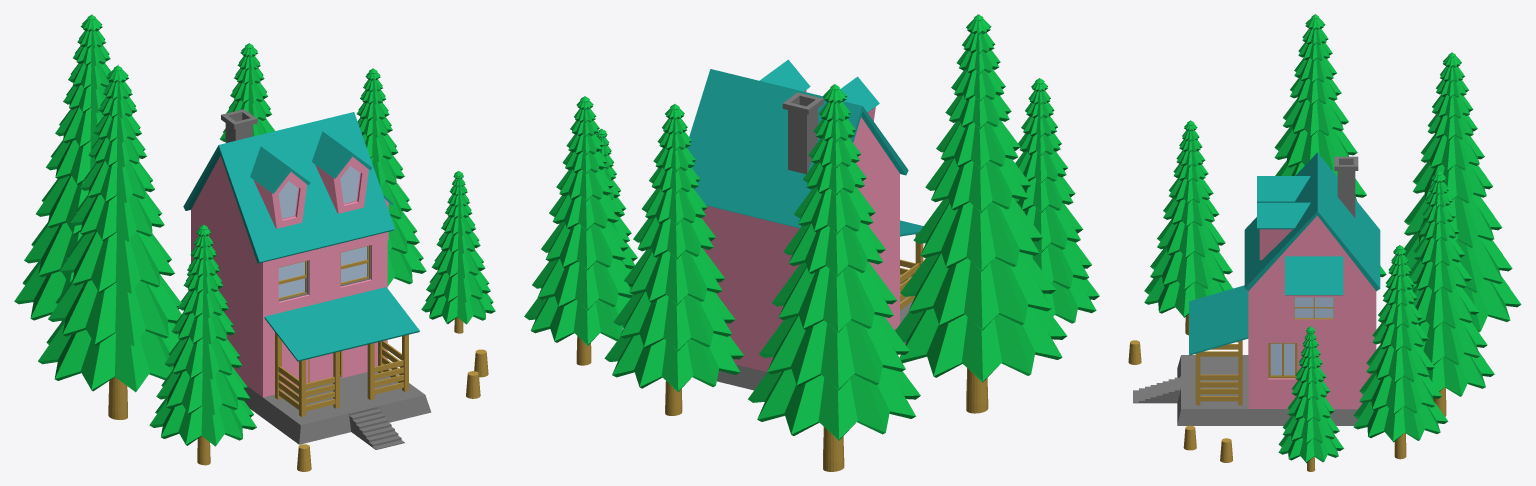
The model's file is house.glb.
3 views of the same model, side by side, from view 1: azimuth 30°, elevation 25°; view 2: azimuth 150°, elevation 25°; view 3: azimuth 270°, elevation 25° (orthographic). The views are drawn at different scales.
Parts seen in each view (by area): view 1: Plane, Plane.001, Plane.008, Circle.002, Circle.001, Plane.007, Circle.003, Circle.004, Circle.012, Circle.013, Circle.014, Circle.005 (+39 smaller); view 2: Plane, Plane.001, Circle.001, Circle.002, Circle.056, Circle.057, Circle.003, Circle.058, Circle.034, Circle.035, Circle.004, Circle.036 (+30 smaller); view 3: Plane, Plane.001, Plane.007, Plane.008, Circle.023, Cube.001, Circle.058, Circle.024, Circle.013, Circle.004, Circle.057, Circle.035 (+37 smaller).
Part boxes in pixels (x1=…): Plane: x1=191, y1=156, x2=387, y2=416; Plane.001: x1=183, y1=112, x2=394, y2=263; Plane.008: x1=264, y1=287, x2=419, y2=361; Circle.002: x1=48, y1=274, x2=181, y2=346; Circle.001: x1=38, y1=320, x2=179, y2=392; Plane.007: x1=261, y1=369, x2=431, y2=444; Circle.003: x1=60, y1=231, x2=174, y2=293; Circle.004: x1=70, y1=191, x2=164, y2=241; Circle.012: x1=149, y1=398, x2=256, y2=446; Circle.013: x1=156, y1=367, x2=250, y2=415; Circle.014: x1=164, y1=337, x2=242, y2=379; Circle.005: x1=80, y1=161, x2=154, y2=202; Plane: x1=702, y1=117, x2=906, y2=390; Plane.001: x1=687, y1=69, x2=908, y2=228; Circle.001: x1=895, y1=306, x2=1066, y2=382; Circle.002: x1=900, y1=252, x2=1055, y2=330; Circle.056: x1=748, y1=367, x2=920, y2=440; Circle.057: x1=759, y1=314, x2=909, y2=390; Circle.003: x1=913, y1=197, x2=1042, y2=271; Circle.058: x1=772, y1=261, x2=897, y2=333; Circle.034: x1=604, y1=333, x2=744, y2=391; Circle.035: x1=613, y1=290, x2=735, y2=351; Circle.004: x1=925, y1=157, x2=1030, y2=212; Circle.036: x1=624, y1=248, x2=724, y2=305; Plane: x1=1244, y1=215, x2=1376, y2=425; Plane.001: x1=1244, y1=152, x2=1380, y2=291; Plane.007: x1=1177, y1=355, x2=1248, y2=425; Plane.008: x1=1189, y1=285, x2=1248, y2=355; Circle.023: x1=1353, y1=401, x2=1448, y2=442; Cube.001: x1=1285, y1=256, x2=1343, y2=295; Circle.058: x1=1404, y1=194, x2=1502, y2=247; Circle.024: x1=1359, y1=372, x2=1441, y2=414; Circle.013: x1=1150, y1=248, x2=1232, y2=289; Circle.004: x1=1274, y1=126, x2=1357, y2=169; Circle.057: x1=1404, y1=233, x2=1512, y2=292; Circle.035: x1=1419, y1=319, x2=1487, y2=365.
Bounding box in the file's own units: 33.26 × 26.1 × 28.97.
